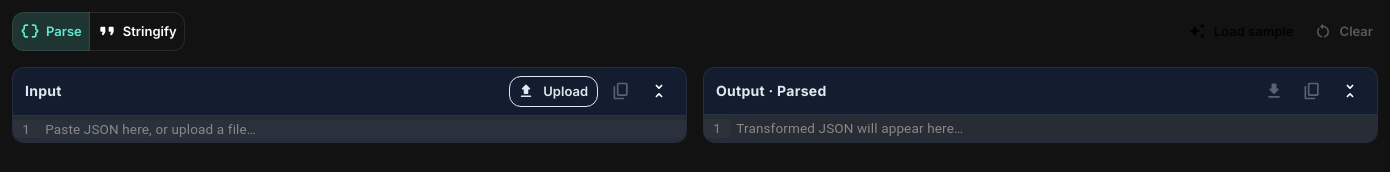
Scenario: JsonProcessor (integration) › collapses the input pane
Click the button named "collapse input" at (659, 91), box [644,76,674,106]
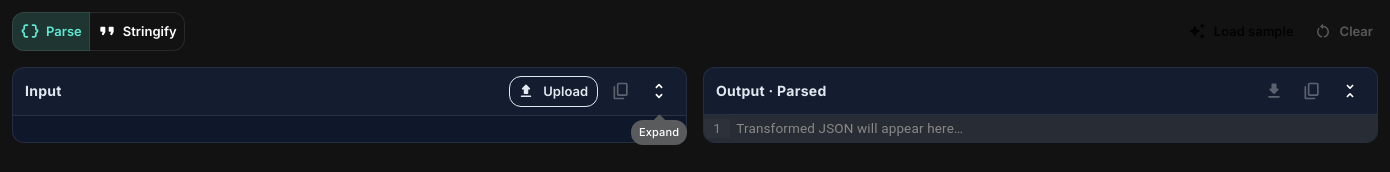
Expected: the button named "expand input" is collapsed, [644,76,674,106]
